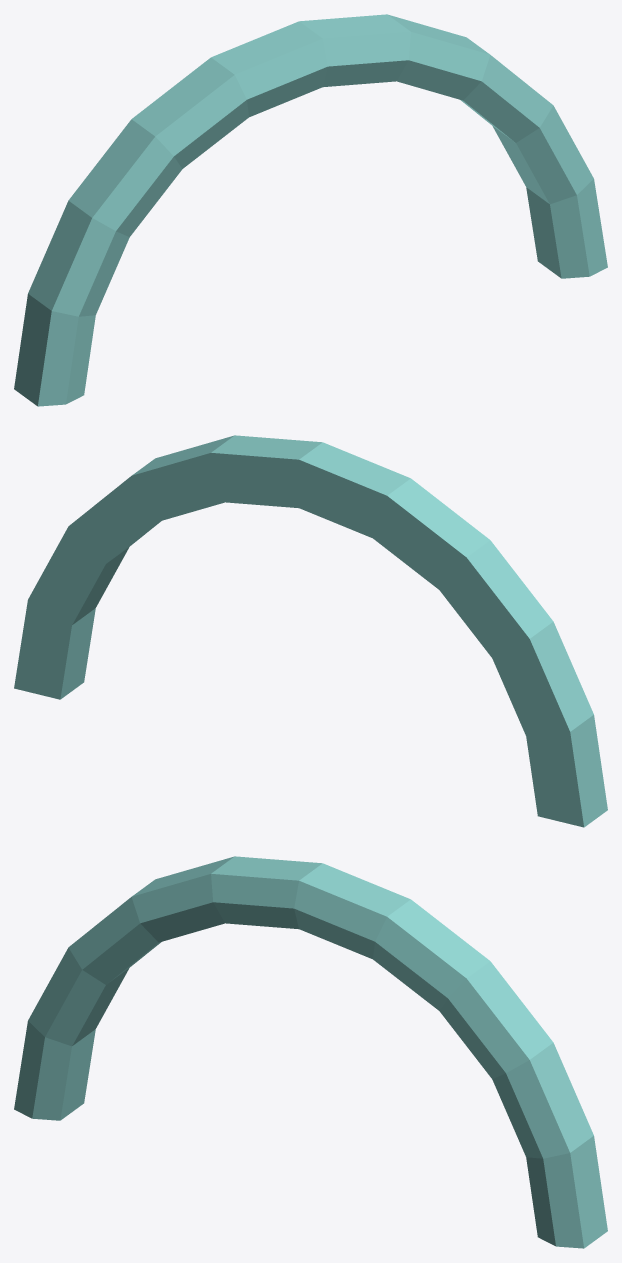
3 renders of one model, top to bottom at view 1: azimuth 30°, elevation 25°; view 2: azimuth 150°, elevation 25°; view 3: azimuth 330°, elevation 25°, orthographic.
Parts seen in each view (by area): view 1: 独立纸色带_3_RainbowMint.001; view 2: 独立纸色带_3_RainbowMint.001; view 3: 独立纸色带_3_RainbowMint.001.
Part boxes in pixels (x1,y1,x2,y2): 独立纸色带_3_RainbowMint.001: (14,14,607,406); 独立纸色带_3_RainbowMint.001: (14,435,607,827); 独立纸色带_3_RainbowMint.001: (14,856,607,1248).
Bounding box in the file's own units: 1.66 × 0.83 × 0.145.
